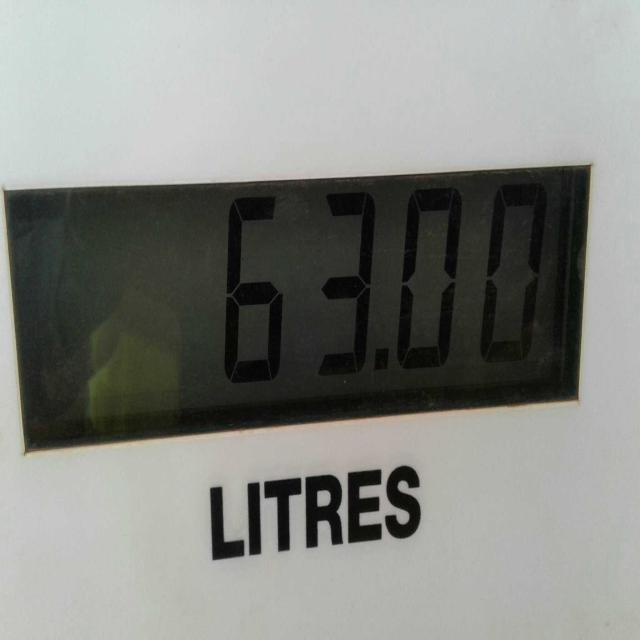.: (370, 342, 394, 382)
0: (477, 180, 569, 386), (388, 167, 460, 390)
3: (312, 186, 376, 390)
6: (213, 182, 294, 401)
